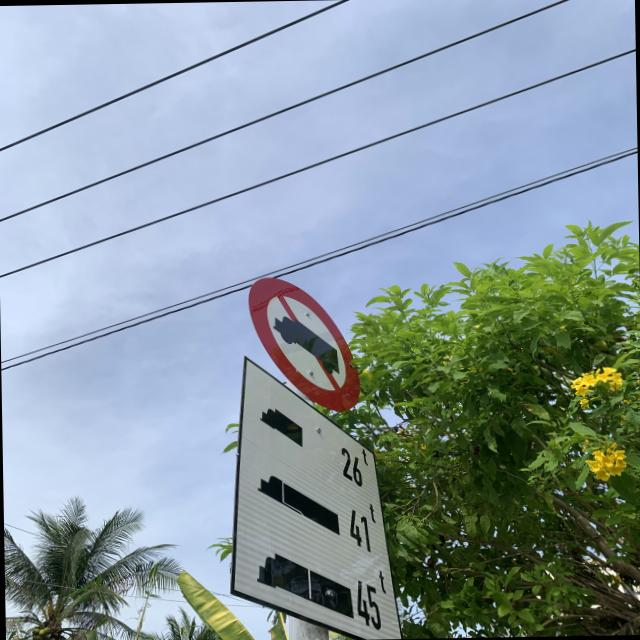Cam_Xe_Tai: (251, 273, 361, 412)
